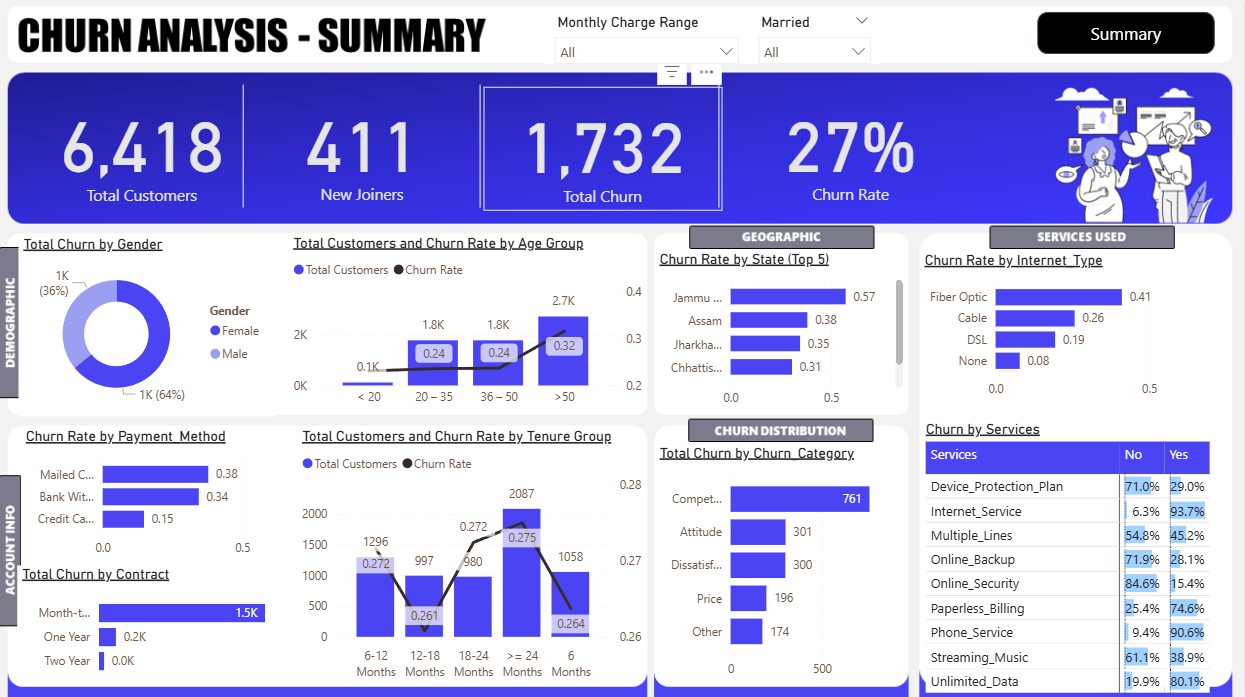

What the dashboard file says about the page in this screenshot:
{"tool":"powerbi","page":{"name":"Summery","canvas":[1280,720],"ordinal":0},"visuals":[{"type":"card","fields":{"Values":["tbl_Measures.Total Customers"]},"box":[47.1,90.6,204.7,125.9],"z":1000},{"type":"card","fields":{"Values":["tbl_Measures.New Joiners"]},"box":[251.5,89.7,248.5,126.5],"z":2000},{"type":"card","fields":{"Values":["tbl_Measures.Total Churn"]},"box":[500,90.6,244.7,127.1],"z":3000},{"type":"card","fields":{"Values":["tbl_Measures.Churn Rate"]},"box":[744.1,89.7,266.2,126.5],"z":4000},{"type":"lineStackedColumnComboChart","fields":{"Category":["Mapping_Agegrp.Age Group"],"Y":["tbl_Measures.Total Customers"],"Y2":["tbl_Measures.Churn Rate"]},"box":[300,242.6,367.6,185.3],"z":5000},{"type":"donutChart","fields":{"Category":["prod_Churn.Gender"],"Y":["tbl_Measures.Total Churn"]},"box":[22.6,243.1,262.1,185.5],"z":6000},{"type":"clusteredBarChart","fields":{"Category":["prod_Churn.Payment_Method"],"Y":["tbl_Measures.Churn Rate"]},"box":[25.6,441,283.3,141.7],"z":7000},{"type":"clusteredBarChart","fields":{"Category":["prod_Churn.Contract"],"Y":["tbl_Measures.Total Churn"]},"box":[22.1,582.4,283.8,123.5],"z":8000},{"type":"lineStackedColumnComboChart","fields":{"Category":["Mapping_Tenuregrp.Tenure Group"],"Y":["tbl_Measures.Total Customers"],"Y2":["tbl_Measures.Churn Rate"]},"box":[309,441,359,265.4],"z":9000},{"type":"clusteredBarChart","title":"Churn Rate by State (Top 5)","fields":{"Category":["prod_Churn.State"],"Y":["tbl_Measures.Churn Rate"]},"box":[675,259.4,260,169.4],"z":10000},{"type":"clusteredBarChart","fields":{"Category":["prod_Churn.Churn_Category"],"Y":["tbl_Measures.Total Churn"]},"box":[675,457.5,260,248.8],"z":11000},{"type":"slicer","fields":{"Values":["prod_Churn.Monthly Charge Status"]},"box":[563.2,11.8,208.8,55.9],"z":13000},{"type":"pivotTable","title":"Churn by Services","fields":{"Rows":["prod_Services.Services"],"Columns":["prod_Services.Status"],"Values":["Sum(prod_Services.Churn Status)"]},"box":[948.5,433.8,319.1,286.8],"z":13500},{"type":"slicer","fields":{"Values":["prod_Churn.Married"]},"box":[772.1,11.8,135.3,55.9],"z":14000},{"type":"clusteredBarChart","fields":{"Category":["prod_Churn.Internet_Type"],"Y":["tbl_Measures.Churn Rate"]},"box":[947.5,260,320,158.8],"z":15000},{"type":"shape","box":[1067.9,14.1,182.1,43.6],"z":15001}]}

Visuals, with their boxes in screenshot pixels (x1, y1, x2, y2), scaled from the page's 1280x720 canvas onto the 1245x697 screenshot:
card - tbl_Measures.Total Customers: Rect(46, 88, 245, 210)
card - tbl_Measures.New Joiners: Rect(245, 87, 486, 209)
card - tbl_Measures.Total Churn: Rect(486, 88, 724, 211)
card - tbl_Measures.Churn Rate: Rect(724, 87, 983, 209)
lineStackedColumnComboChart - Mapping_Agegrp.Age Group x tbl_Measures.Total Customers: Rect(292, 235, 649, 414)
donutChart - prod_Churn.Gender x tbl_Measures.Total Churn: Rect(22, 235, 277, 415)
clusteredBarChart - prod_Churn.Payment_Method x tbl_Measures.Churn Rate: Rect(25, 427, 300, 564)
clusteredBarChart - prod_Churn.Contract x tbl_Measures.Total Churn: Rect(21, 564, 298, 683)
lineStackedColumnComboChart - Mapping_Tenuregrp.Tenure Group x tbl_Measures.Total Customers: Rect(301, 427, 650, 684)
"Churn Rate by State (Top 5)" clusteredBarChart: Rect(657, 251, 909, 415)
clusteredBarChart - prod_Churn.Churn_Category x tbl_Measures.Total Churn: Rect(657, 443, 909, 684)
slicer - prod_Churn.Monthly Charge Status: Rect(548, 11, 751, 66)
"Churn by Services" pivotTable: Rect(923, 420, 1233, 696)
slicer - prod_Churn.Married: Rect(751, 11, 883, 66)
clusteredBarChart - prod_Churn.Internet_Type x tbl_Measures.Churn Rate: Rect(922, 252, 1233, 405)
shape: Rect(1039, 14, 1216, 56)
